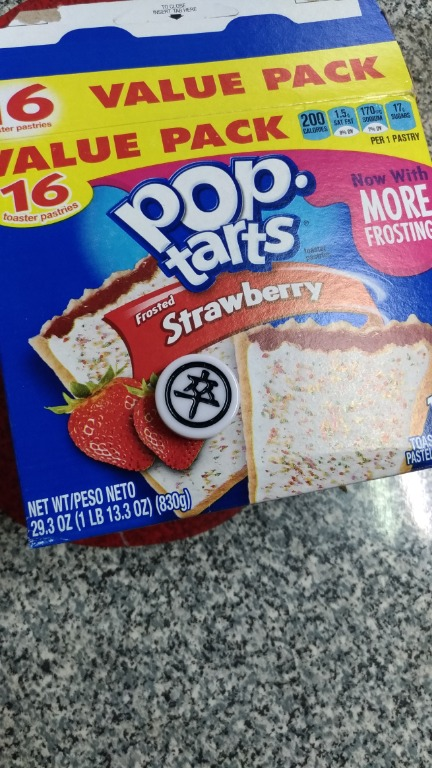b-pawn: (137, 341, 262, 446)
